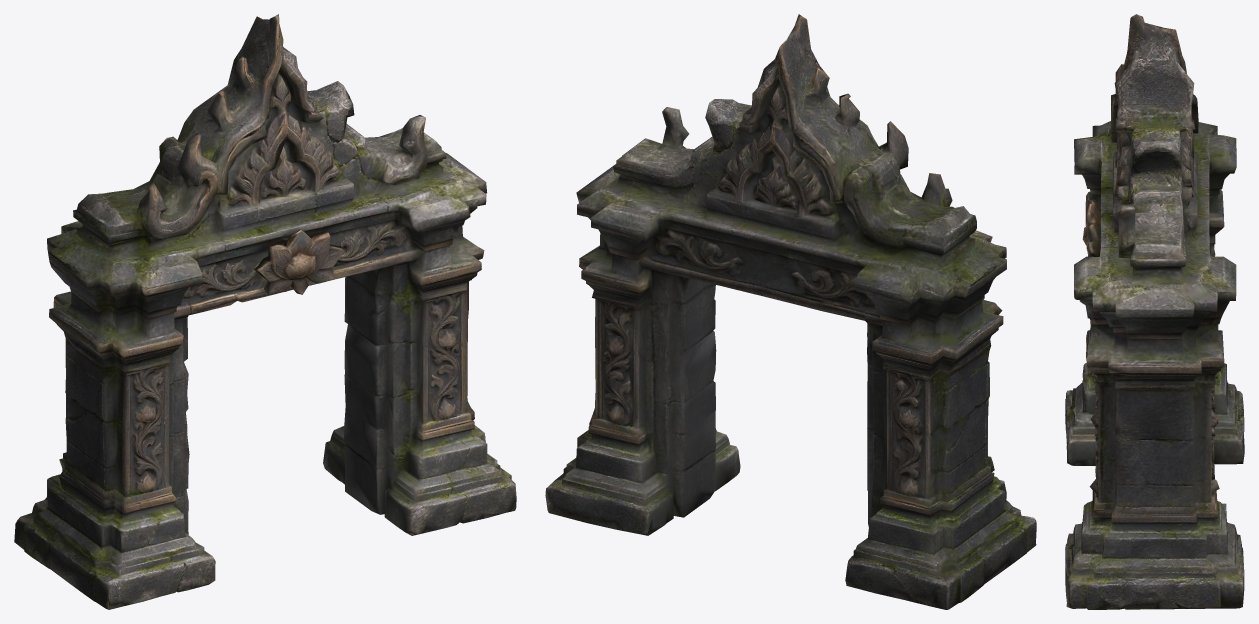
File: archway.glb
3 views of the same model, side by side, from view 1: azimuth 30°, elevation 25°; view 2: azimuth 150°, elevation 25°; view 3: azimuth 270°, elevation 25° (orthographic). The views are drawn at different scales.
Parts seen in each view (by area): view 1: tripo_node_be8e75fa-3017-41bb-b9b9-cd401ee97c12; view 2: tripo_node_be8e75fa-3017-41bb-b9b9-cd401ee97c12; view 3: tripo_node_be8e75fa-3017-41bb-b9b9-cd401ee97c12.
Part boxes in pixels (x1,y1,x2,y2): tripo_node_be8e75fa-3017-41bb-b9b9-cd401ee97c12: (14,14,516,609); tripo_node_be8e75fa-3017-41bb-b9b9-cd401ee97c12: (545,14,1036,609); tripo_node_be8e75fa-3017-41bb-b9b9-cd401ee97c12: (1065,14,1244,609).
Size of the model in its own units: 0.8419 by 1 by 0.3261.
1 material, 1 textured.
